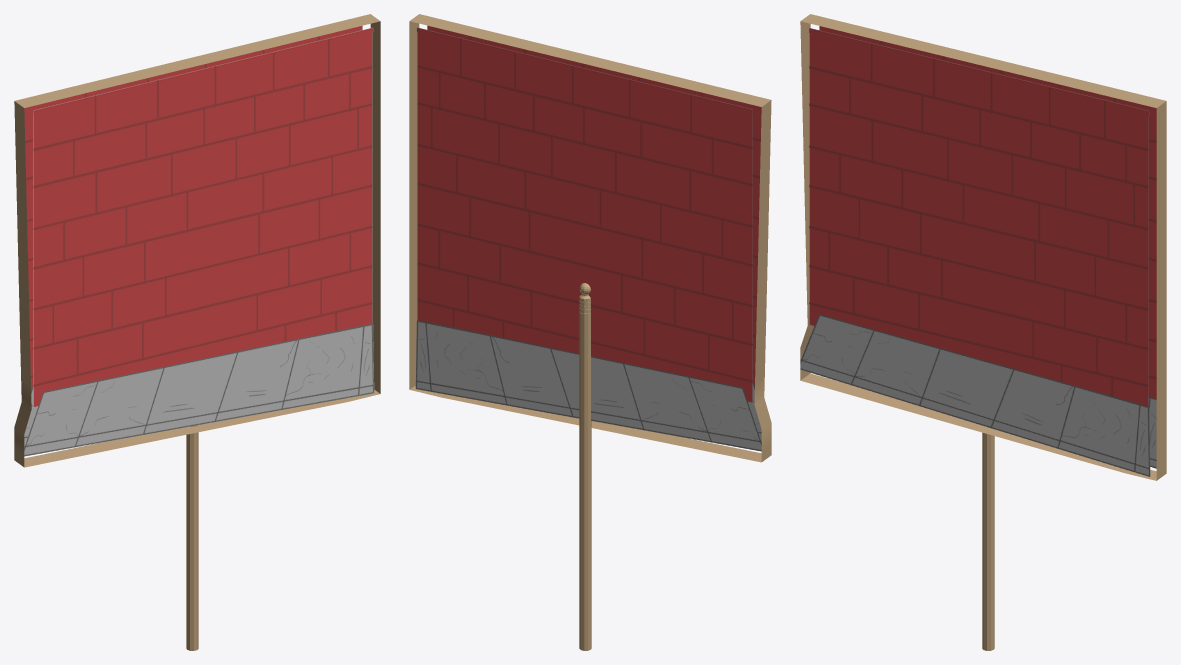
File: Escena3_Escenario.fbx
3 views of the same model, side by side, from view 1: azimuth 30°, elevation 25°; view 2: azimuth 150°, elevation 25°; view 3: azimuth 330°, elevation 25° (orthographic).
Visible parts, largest first — view 1: SCN03; view 2: SCN03; view 3: SCN03.
Part boxes in pixels (x1=…): SCN03: x1=14, y1=14, x2=380, y2=650; SCN03: x1=409, y1=14, x2=771, y2=650; SCN03: x1=800, y1=14, x2=1166, y2=650.
Bounding box in the file's own units: 0.1081 × 0.1713 × 0.0068.
